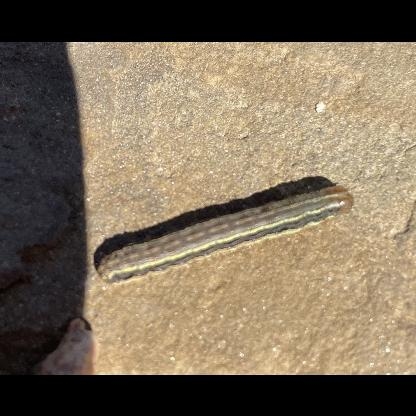Fall Armyworm Larvae: (93, 180, 356, 290)
